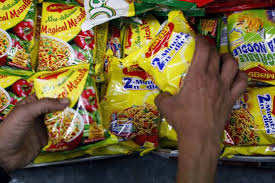maggi: (97, 33, 176, 149)
